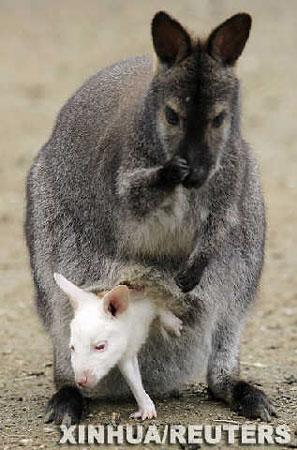kangaroo: (19, 10, 285, 422), (48, 266, 189, 421)
